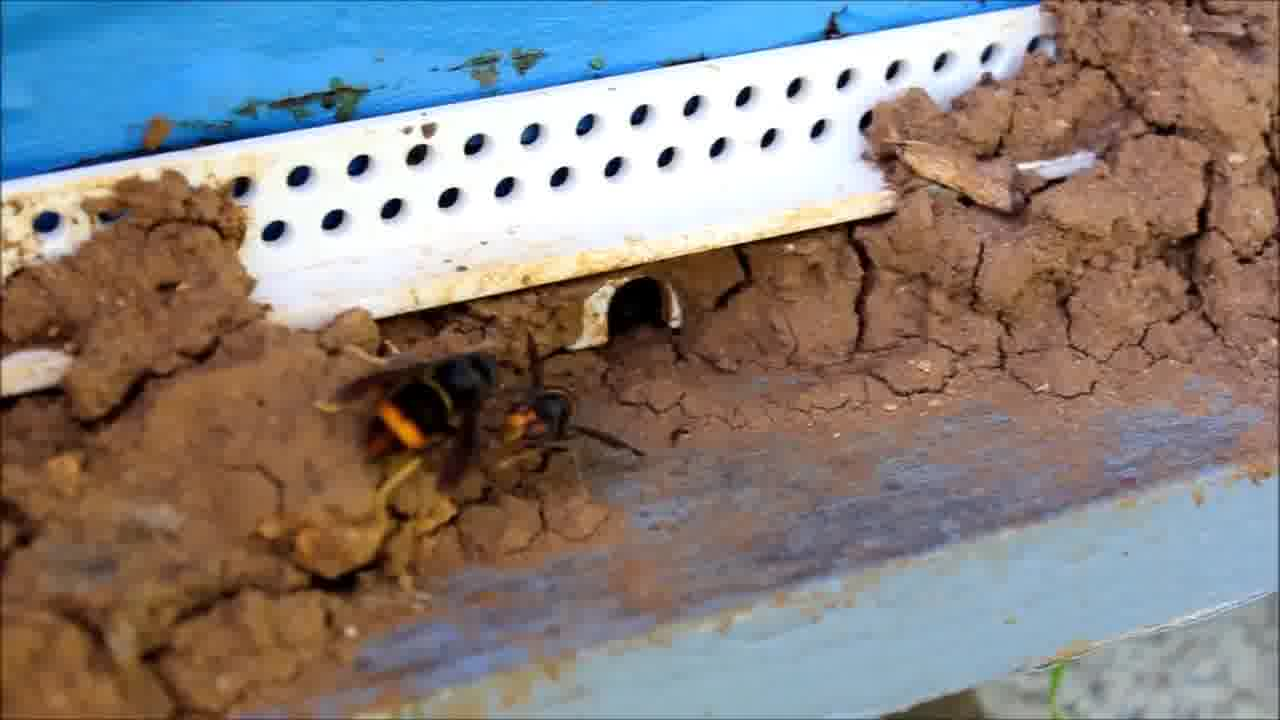hornet: (343, 331, 507, 481), (510, 344, 615, 477)
